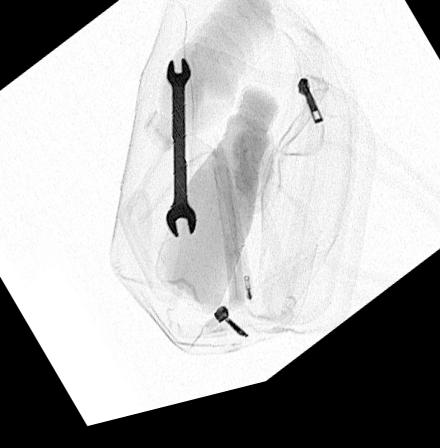Wrench: (164, 64, 197, 247)
